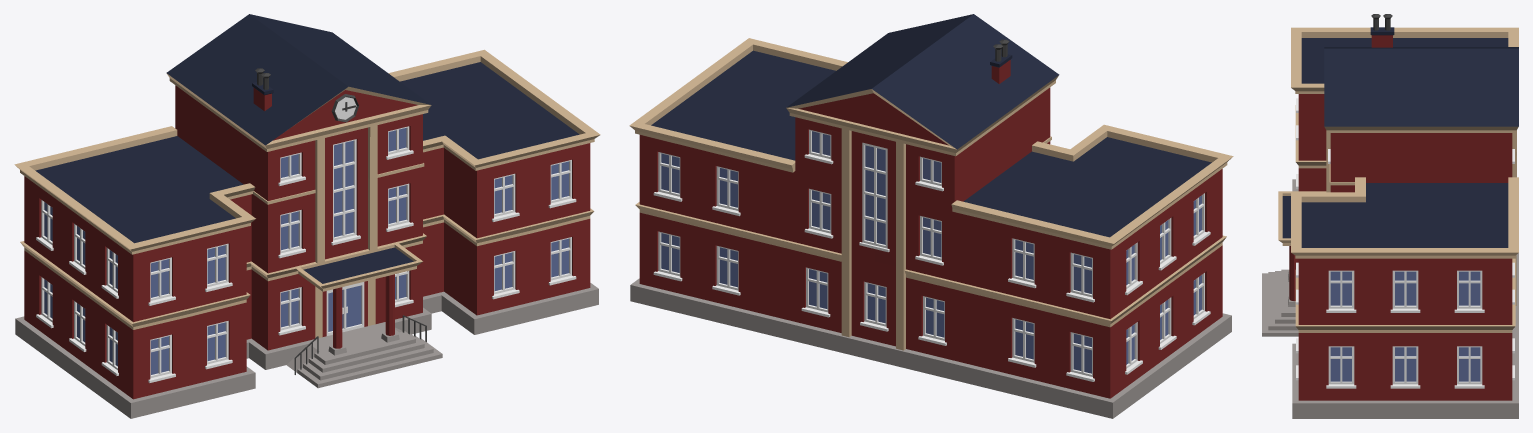
Rendered from building-school.fbx.
3 renders of one model, left to right at view 1: azimuth 30°, elevation 25°; view 2: azimuth 150°, elevation 25°; view 3: azimuth 270°, elevation 25°, orthographic. The views are drawn at different scales.
Visible parts, largest first — view 1: building-school; view 2: building-school; view 3: building-school.
Boxes of the visible parts, bbox=[...] form: building-school: bbox=[14, 14, 600, 418]; building-school: bbox=[629, 14, 1233, 418]; building-school: bbox=[1262, 14, 1518, 418].
Size of the model in its own units: 24.9 by 13.72 by 12.01.
